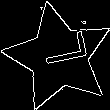L_W: (30, 37, 87, 77)
